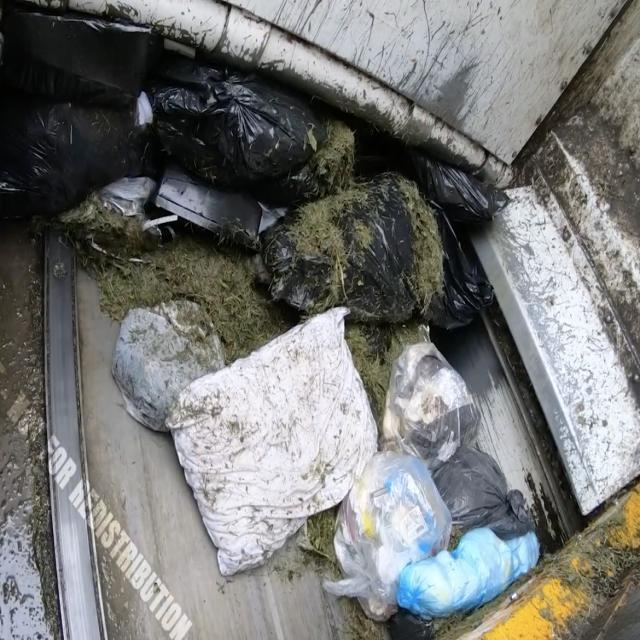bag: (329, 326, 558, 637), (129, 294, 372, 558), (64, 55, 362, 200)
